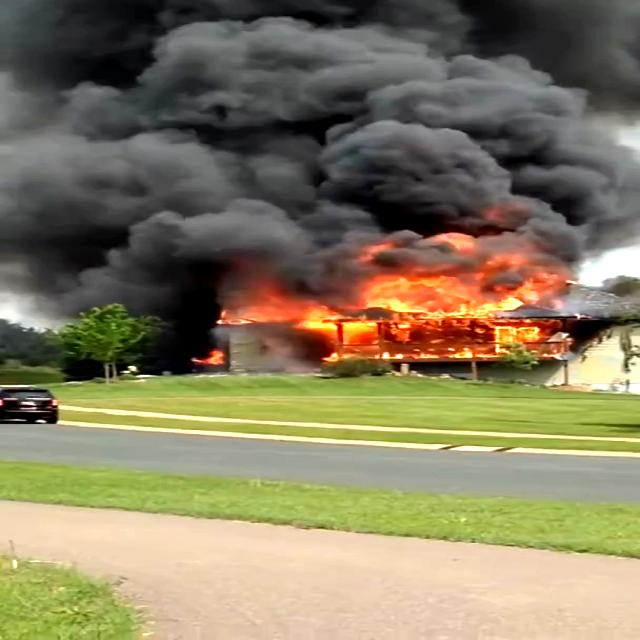helmet: (210, 205, 632, 363)
no_helmet: (0, 1, 640, 269)
